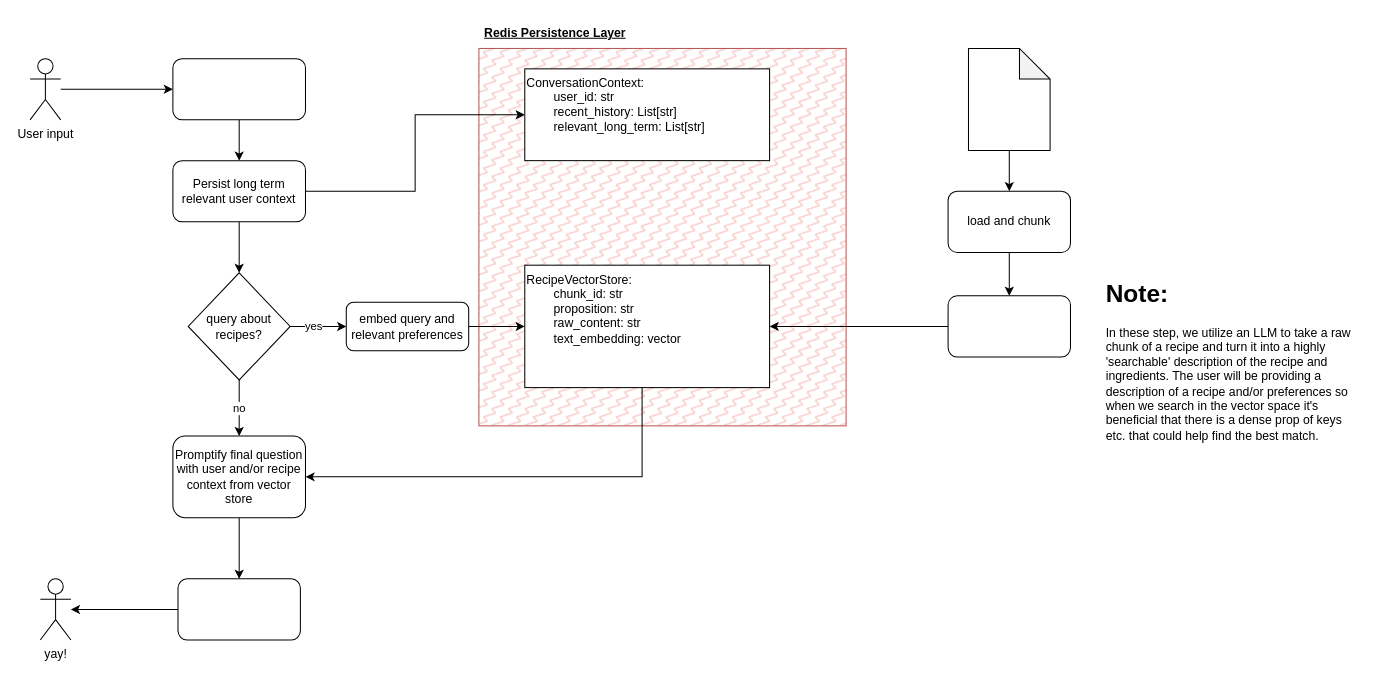
The diagram is 1374 pixels wide and 678 high, and some of its shapes have lost their labels. The shapes that lost their labels are listed below. From the top down, each one's centre as x and y in pixels, then its label:
[238,89]: Utilize LLM to categorize message type and capture relevant user context
[1008,98]: recipe pdf
[1008,326]: create proposition of chunk using LLM
[238,609]: Hydrate final response for user with LLM
